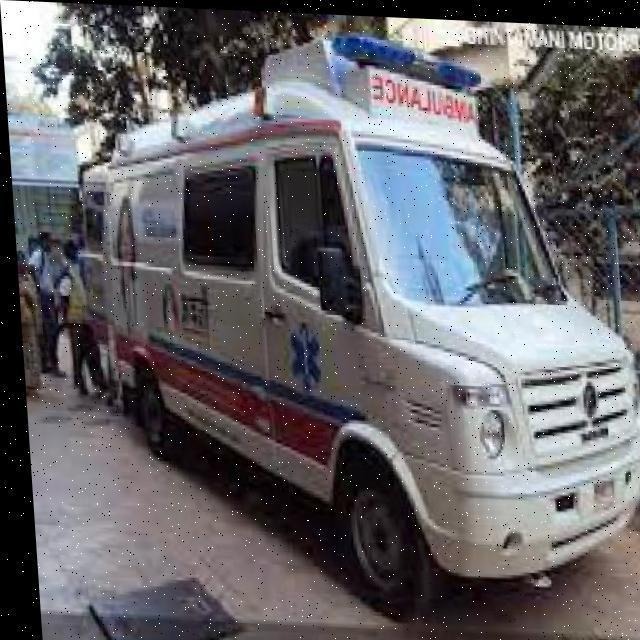Ambulance: (53, 16, 640, 620), (18, 318, 640, 640)
